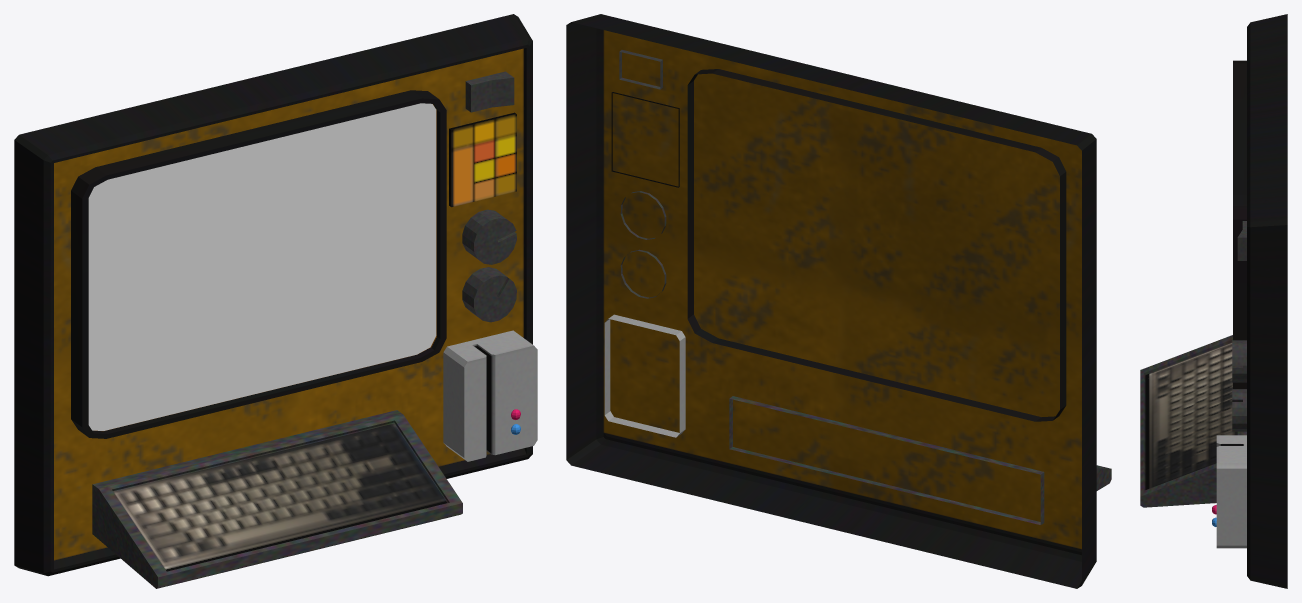
File: log_monitor.glb
3 renders of one model, left to right at view 1: azimuth 30°, elevation 25°; view 2: azimuth 150°, elevation 25°; view 3: azimuth 270°, elevation 25°, orthographic. The views are drawn at different scales.
Parts seen in each view (by area): view 1: LogMonitor; view 2: LogMonitor; view 3: LogMonitor.
Boxes of the visible parts, bbox=[...] form: LogMonitor: bbox=[14, 14, 537, 588]; LogMonitor: bbox=[566, 14, 1111, 588]; LogMonitor: bbox=[1140, 14, 1287, 588].
Bounding box in the file's own units: 0.6754 × 0.5552 × 0.2006.
2 materials, 1 textured.
